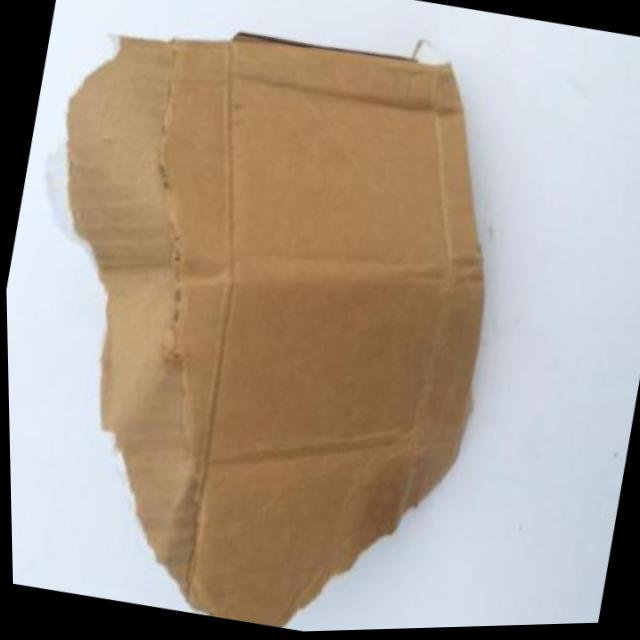box: (0, 0, 567, 640)
